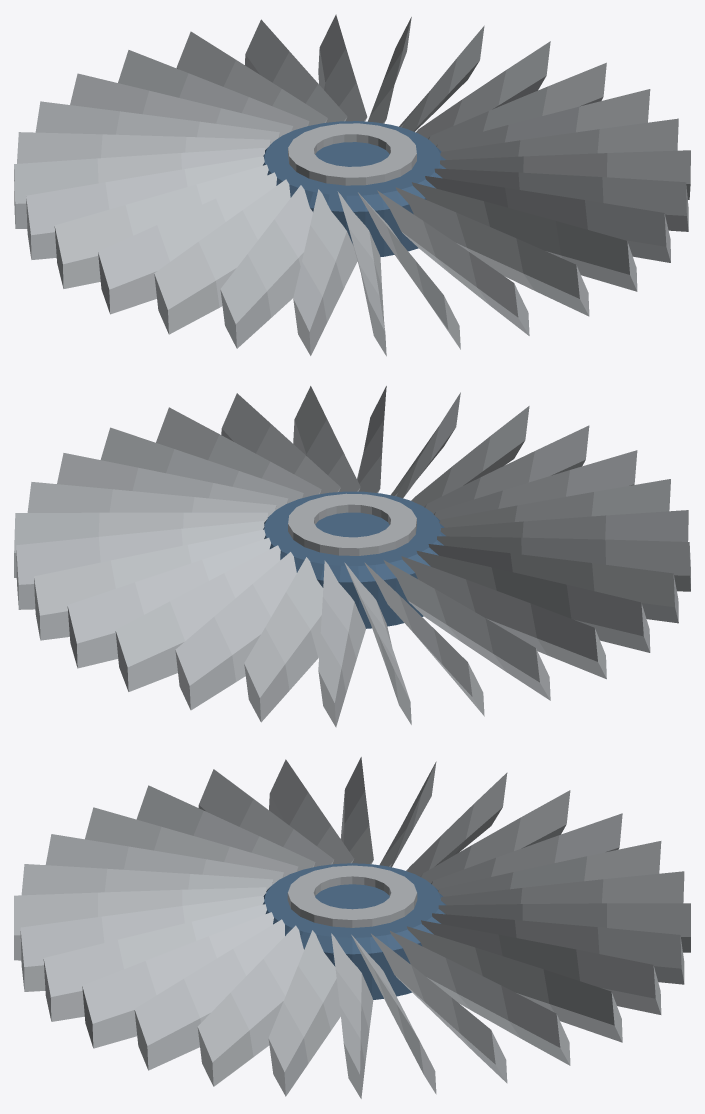
File: fanrotor_basic.glb
3 views of the same model, one above another, from view 1: azimuth 30°, elevation 25°; view 2: azimuth 150°, elevation 25°; view 3: azimuth 270°, elevation 25° (orthographic).
Parts seen in each view (by area): view 1: fanrotor_basic; view 2: fanrotor_basic; view 3: fanrotor_basic.
Part boxes in pixels (x1=…): fanrotor_basic: x1=14, y1=14, x2=690, y2=356; fanrotor_basic: x1=14, y1=386, x2=690, y2=727; fanrotor_basic: x1=14, y1=757, x2=690, y2=1098.
Bounding box in the file's own units: 0.628 × 0.088 × 0.628.
